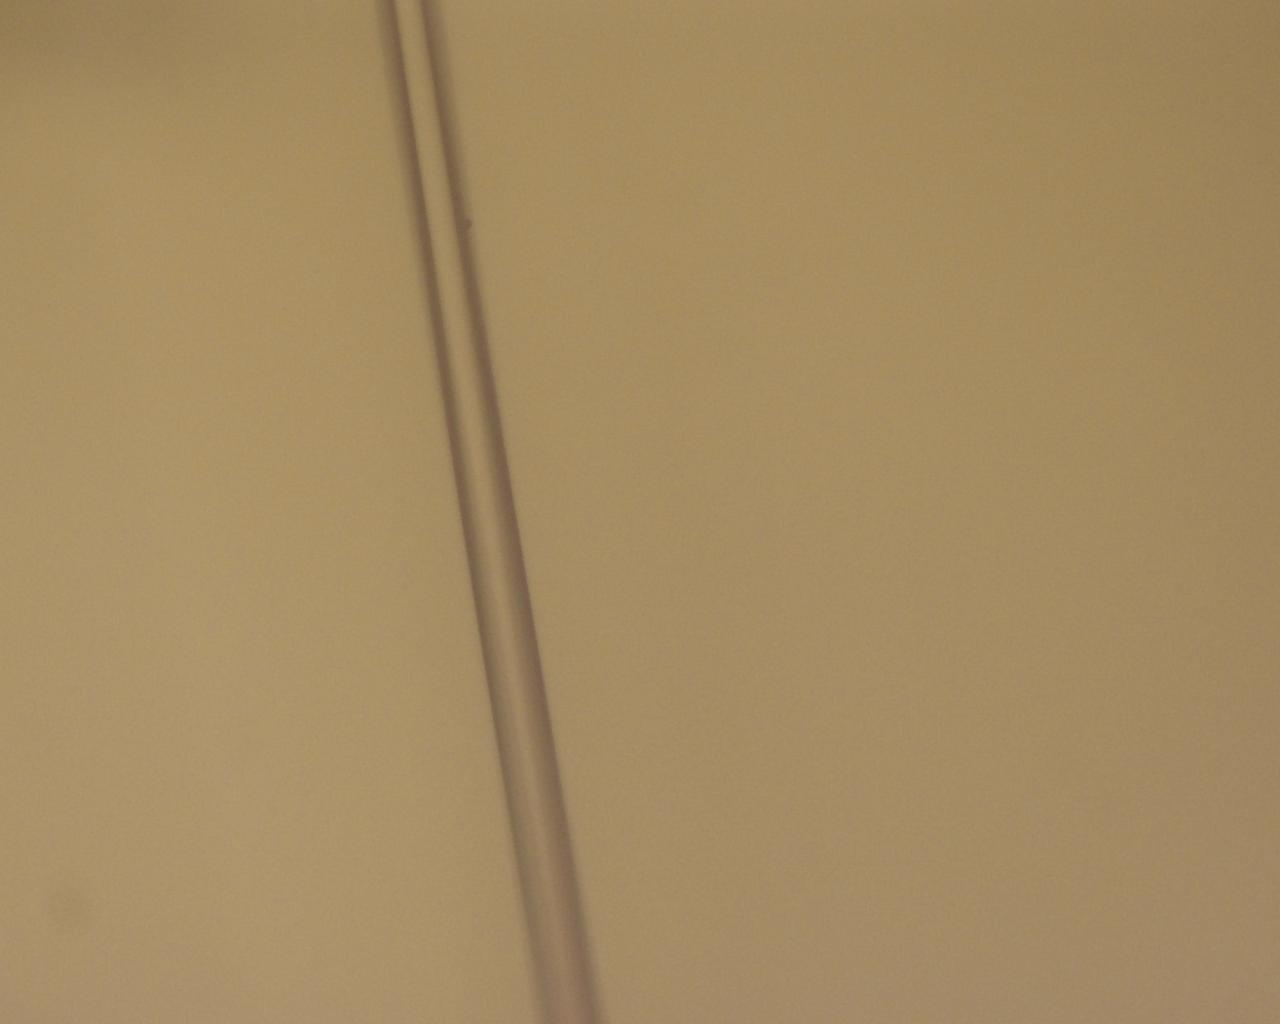fiber: (1011, 0, 1280, 346), (494, 0, 603, 593)
